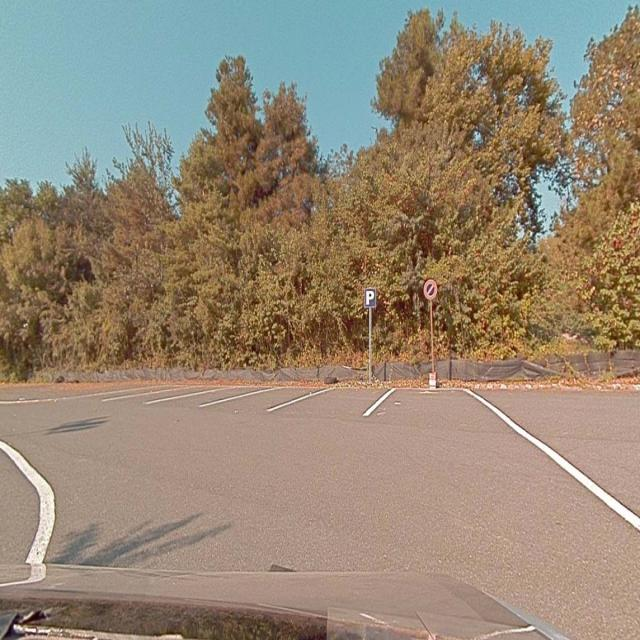park: (365, 290, 375, 306)
parkyasak: (425, 280, 437, 298)
